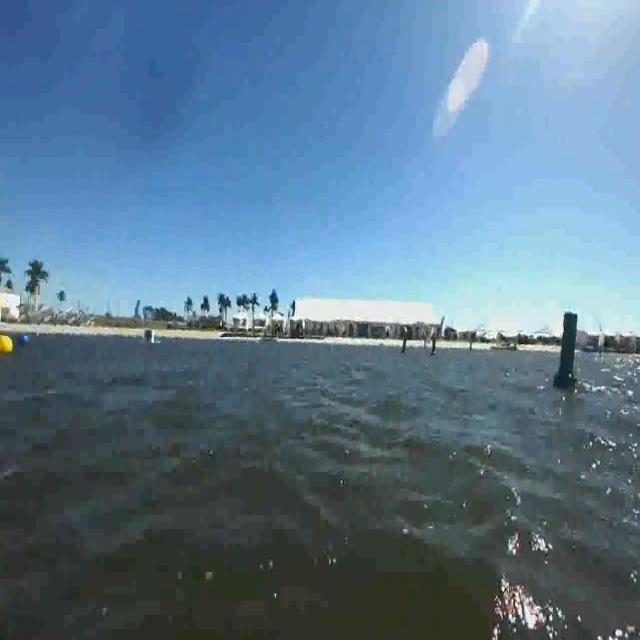blue-buoy: (20, 335, 28, 348)
green-column-buoy: (554, 310, 579, 388)
red-column-buoy: (430, 334, 438, 358)
yellow-buoy: (0, 336, 14, 358)
